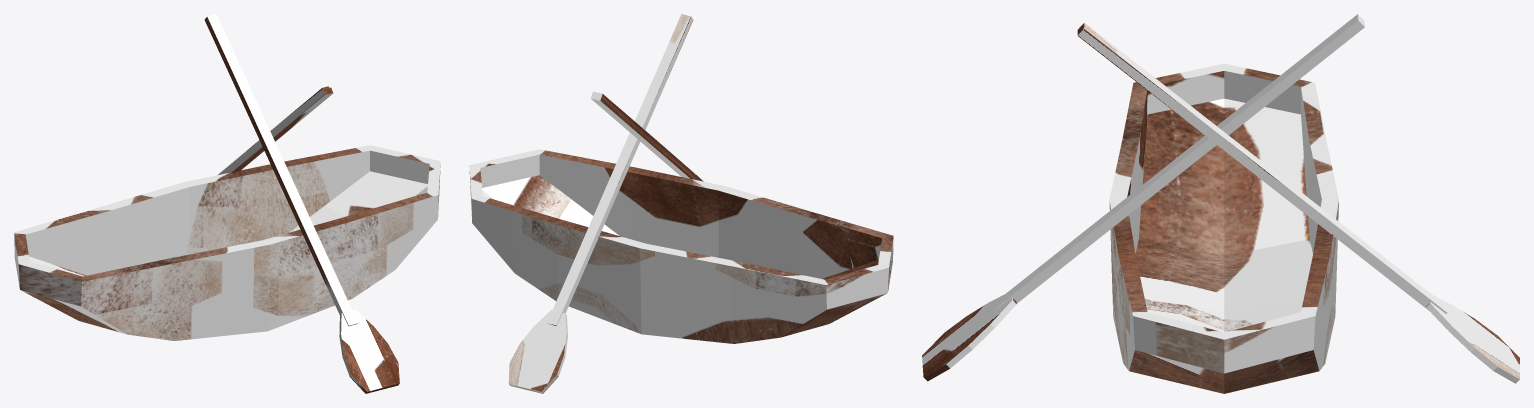
File: canoa .fbx
The picture shows the model from 3 angles, left to right: view 1: azimuth 30°, elevation 25°; view 2: azimuth 150°, elevation 25°; view 3: azimuth 270°, elevation 25°; orthographic projection. The views are drawn at different scales.
Parts seen in each view (by area): view 1: canoa, palo 2, remo 2, palo 1; view 2: canoa, palo 1, remo 1, palo 2; view 3: canoa, palo 1, palo 2, remo 2, remo 1.
Part boxes in pixels (<box>): canoa: <box>14,145,440,340</box>; palo 2: <box>204,14,358,326</box>; remo 2: <box>339,309,399,393</box>; palo 1: <box>218,85,333,174</box>; canoa: <box>469,149,893,343</box>; palo 1: <box>547,14,693,325</box>; remo 1: <box>508,310,567,393</box>; palo 2: <box>590,91,704,181</box>; canoa: <box>1109,63,1338,393</box>; palo 1: <box>1077,23,1447,313</box>; palo 2: <box>995,14,1364,309</box>; remo 2: <box>922,294,1016,381</box>; remo 1: <box>1426,295,1519,383</box>.
Size of the model in its own units: 922 by 541 by 843.
